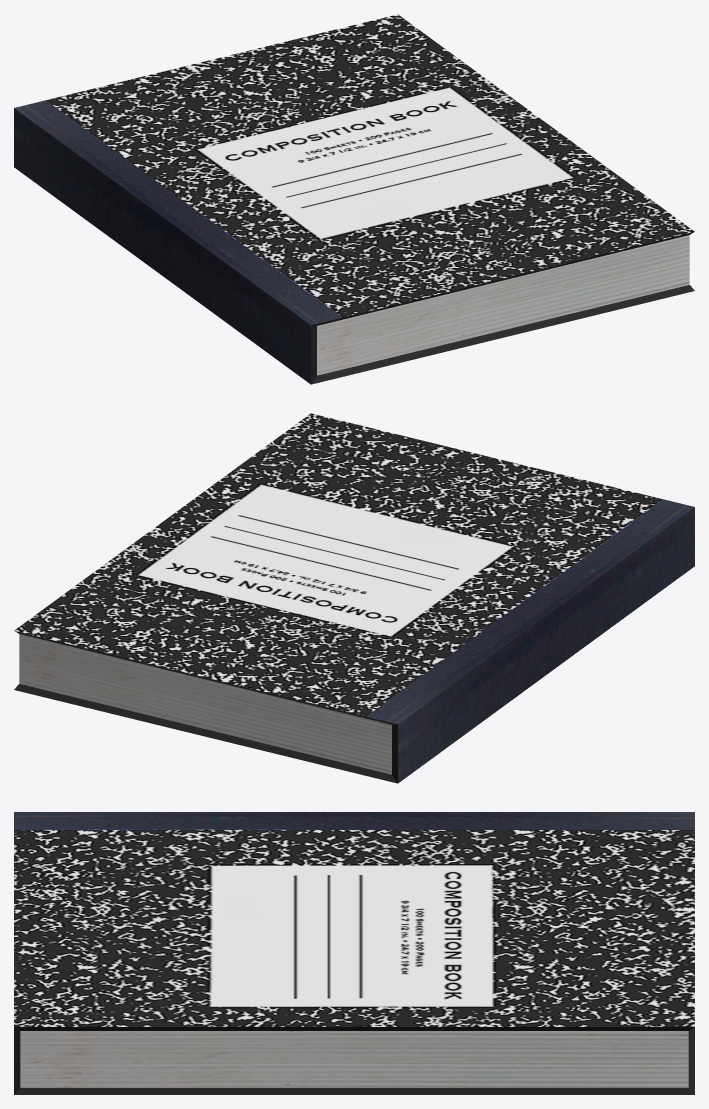
Rendered from Notebook.FBX.
3 renders of one model, top to bottom at view 1: azimuth 30°, elevation 25°; view 2: azimuth 150°, elevation 25°; view 3: azimuth 270°, elevation 25°, orthographic. The views are drawn at different scales.
Parts seen in each view (by area): view 1: notebook; view 2: notebook; view 3: notebook.
Part boxes in pixels (x1,y1,x2,y2): notebook: (14,14,694,384); notebook: (14,413,694,783); notebook: (14,812,694,1094).
Bounding box in the file's own units: 107 × 143 × 15.71.
Materials: 1 (1 with a texture image).
